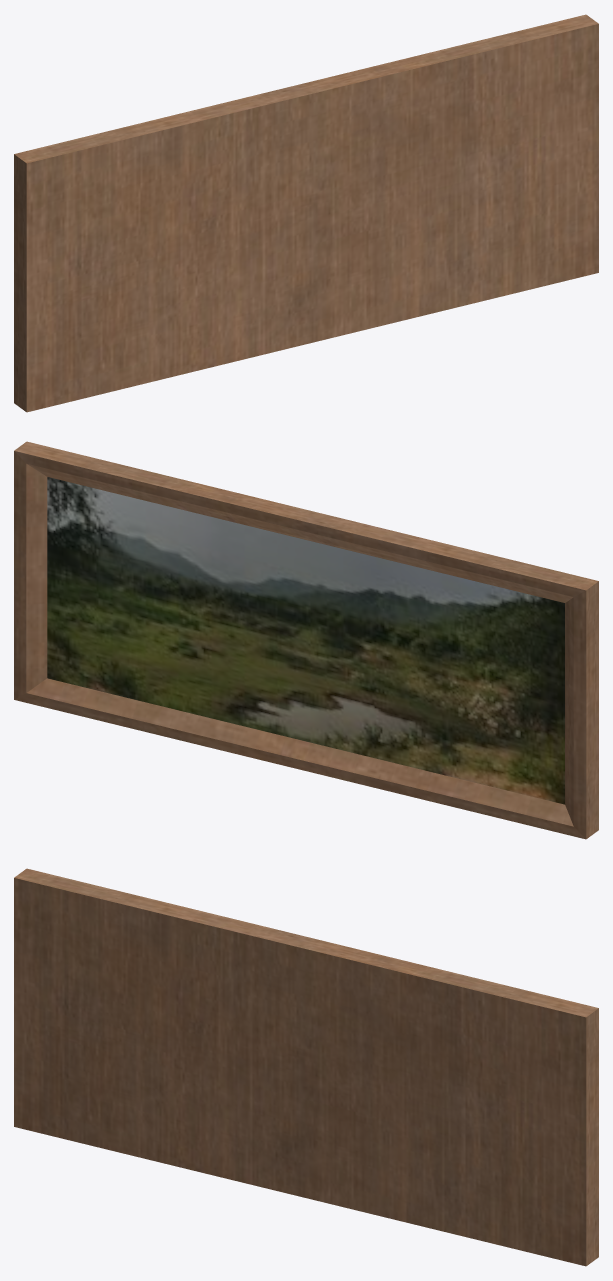
Rendered from Paintings-col.glb.
3 renders of one model, top to bottom at view 1: azimuth 30°, elevation 25°; view 2: azimuth 150°, elevation 25°; view 3: azimuth 330°, elevation 25°, orthographic.
Parts seen in each view (by area): view 1: Paintings-col; view 2: Paintings-col; view 3: Paintings-col.
Boxes of the visible parts, left/top/right/bottom form: Paintings-col: left=14, top=14, right=598, bottom=412; Paintings-col: left=14, top=441, right=598, bottom=839; Paintings-col: left=14, top=868, right=598, bottom=1266.
Size of the model in its own units: 2.21 by 0.921 by 0.0854.
2 materials, 2 textured.
